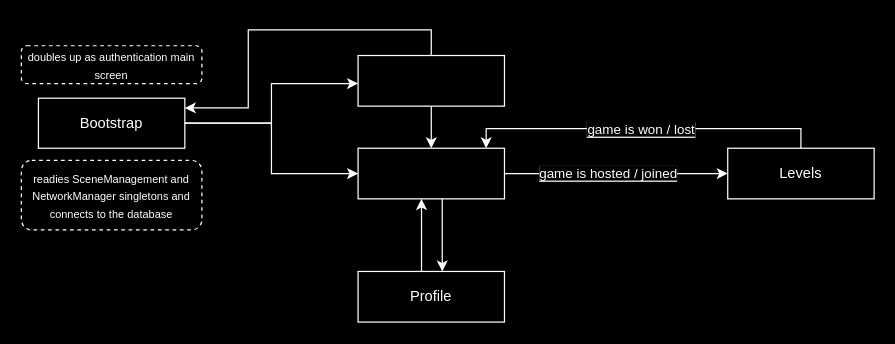
Image size: 895x344. Some labels were removed from this diagram. Each missing label, with the centre of its shape:
"Main Menu" goes at point (430, 173).
"Signup" goes at point (430, 80).
